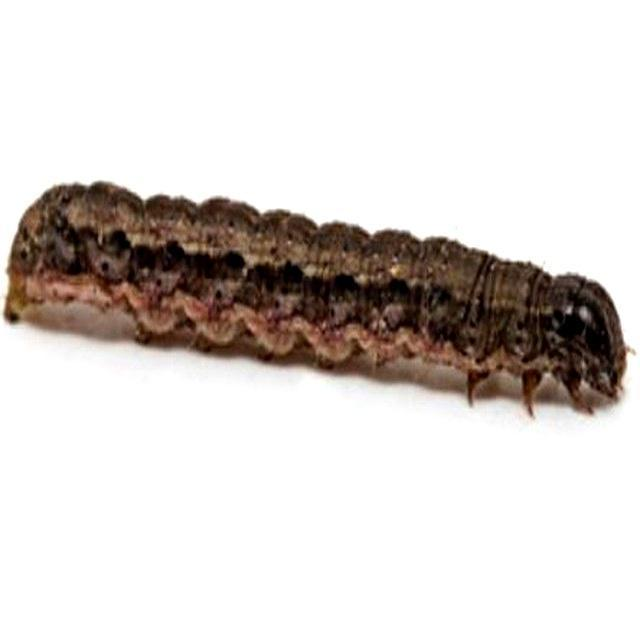gusano_cogollero: (0, 177, 640, 430)
